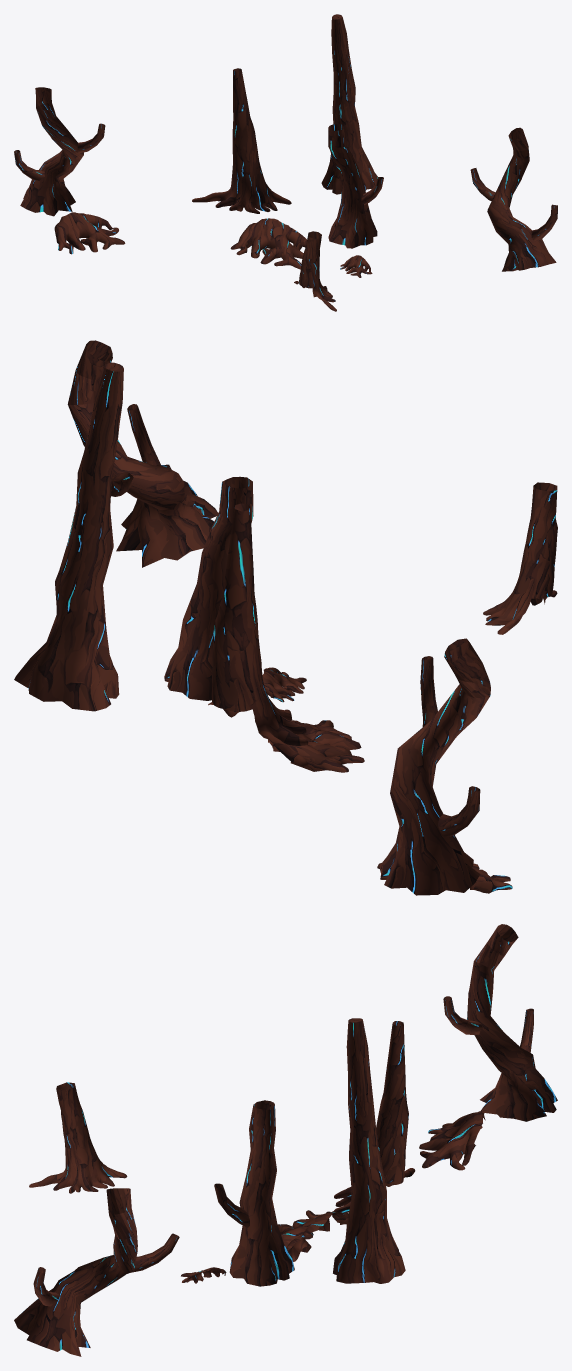
Rendered from Zone_3_trunks.FBX.
3 views of the same model, one above another, from view 1: azimuth 30°, elevation 25°; view 2: azimuth 150°, elevation 25°; view 3: azimuth 270°, elevation 25° (orthographic). The views are drawn at different scales.
Visible parts, largest first — view 1: Zone 3 trunks; view 2: Zone 3 trunks; view 3: Zone 3 trunks.
Boxes of the visible parts, x1,y1,x2,y2 form: Zone 3 trunks: (14,14,557,311); Zone 3 trunks: (14,340,557,895); Zone 3 trunks: (14,924,557,1356).
Bounding box in the file's own units: 47.96 × 25.77 × 44.58.
